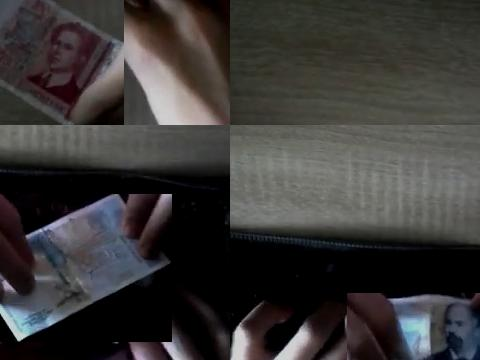20leva: (0, 194, 172, 342), (347, 293, 480, 360)
